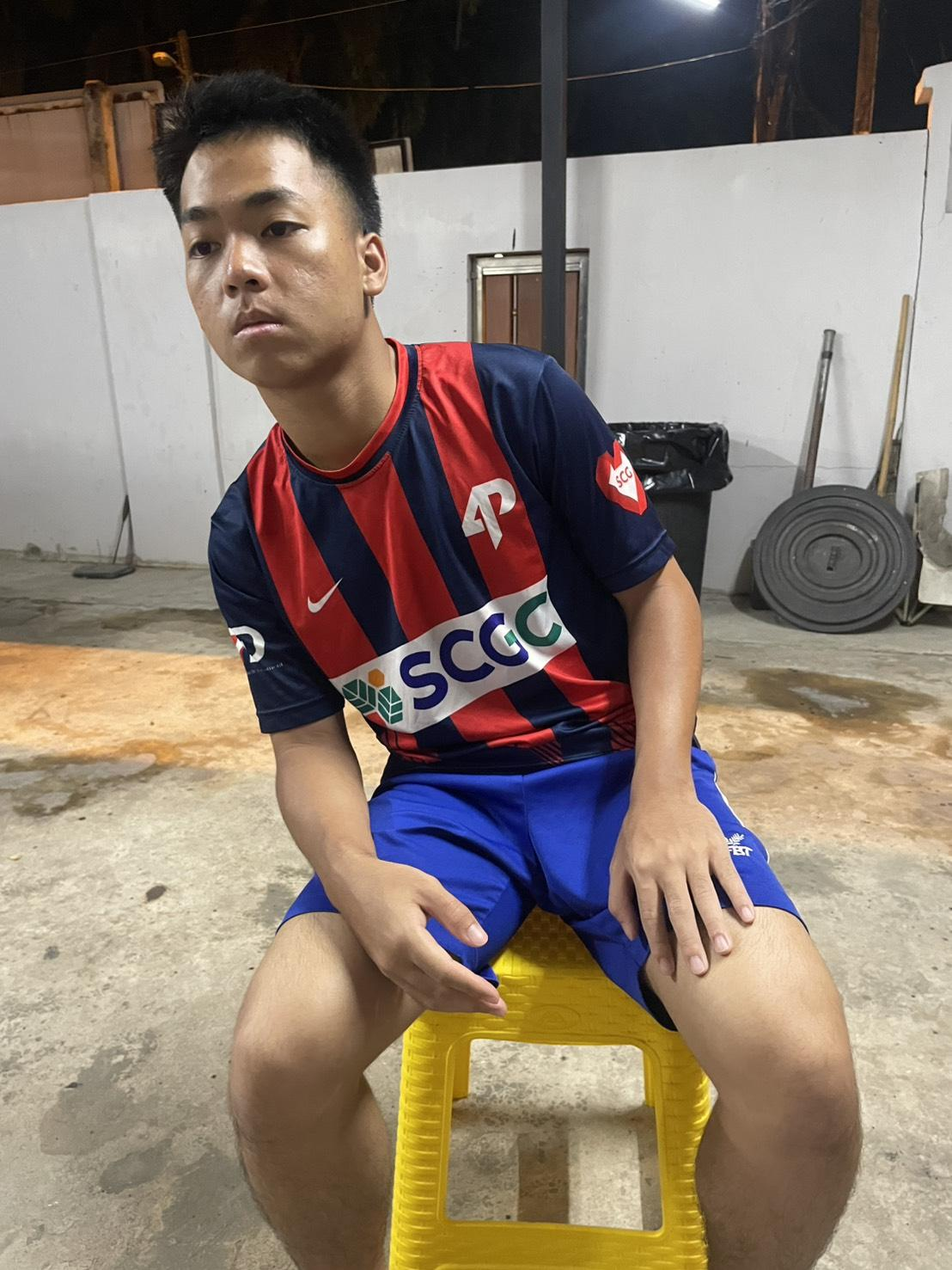BadPosture: (155, 72, 754, 933), (156, 72, 696, 771)
